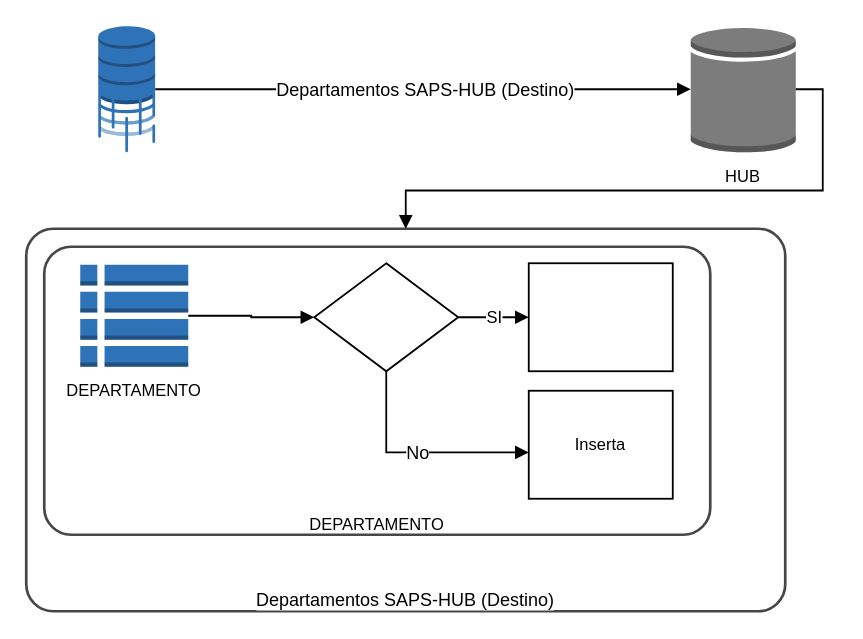
The diagram is 863 pixels wide and 639 high, and some of its shapes have lost their labels. The box of each missing label's shape, as (x1, y1, x2, y2) in pixels:
Actualiza: (527, 262, 673, 371)
HUBDATOS migration workflow/job: (97, 25, 155, 152)
Si el departamento existe: (313, 262, 458, 371)
